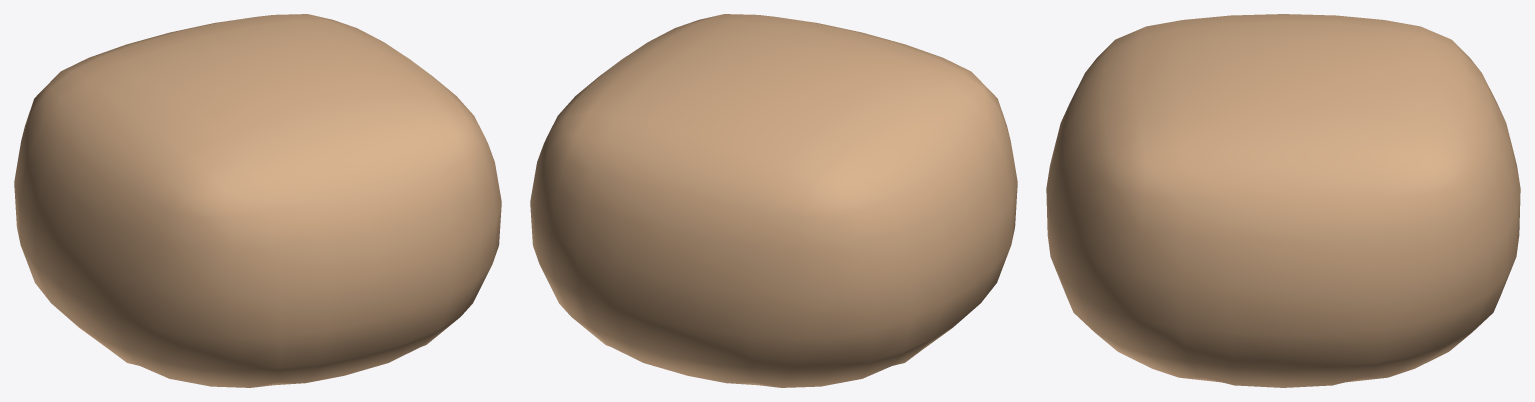
The model's file is Pouf1_1.fbx.
The picture shows the model from 3 angles, left to right: view 1: azimuth 30°, elevation 25°; view 2: azimuth 150°, elevation 25°; view 3: azimuth 270°, elevation 25°; orthographic projection. The views are drawn at different scales.
Parts seen in each view (by area): view 1: pCube2349; view 2: pCube2349; view 3: pCube2349.
Part boxes in pixels (x1,y1,x2,y2): pCube2349: [14, 14, 501, 387]; pCube2349: [530, 14, 1017, 387]; pCube2349: [1046, 14, 1520, 387].
Size of the model in its own units: 34.57 by 23.24 by 34.56.
